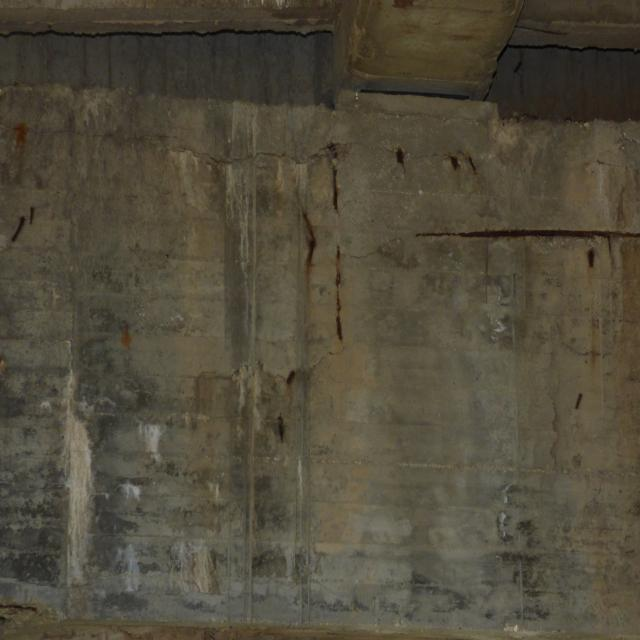corrosion: (264, 108, 640, 494), (0, 91, 74, 274)
